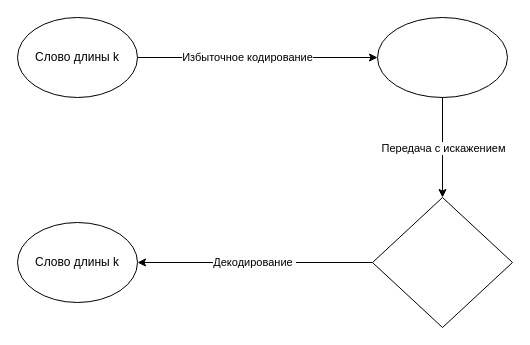
Image size: 530x345. Some labels were removed from this diagram. Each missing label, with the centre of its shape:
Искаженное слово длины n: the point at 442,262
Слово длины n >= k: the point at 442,57
